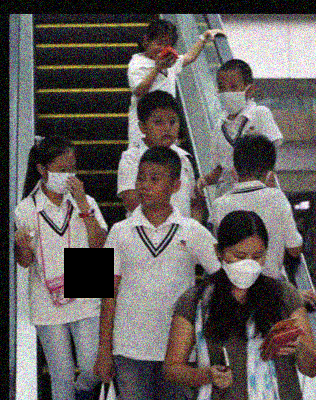with_mask: (222, 247, 268, 290), (216, 77, 248, 112), (45, 162, 78, 194)
without_mask: (134, 169, 168, 207), (146, 113, 181, 148), (145, 38, 175, 59)
